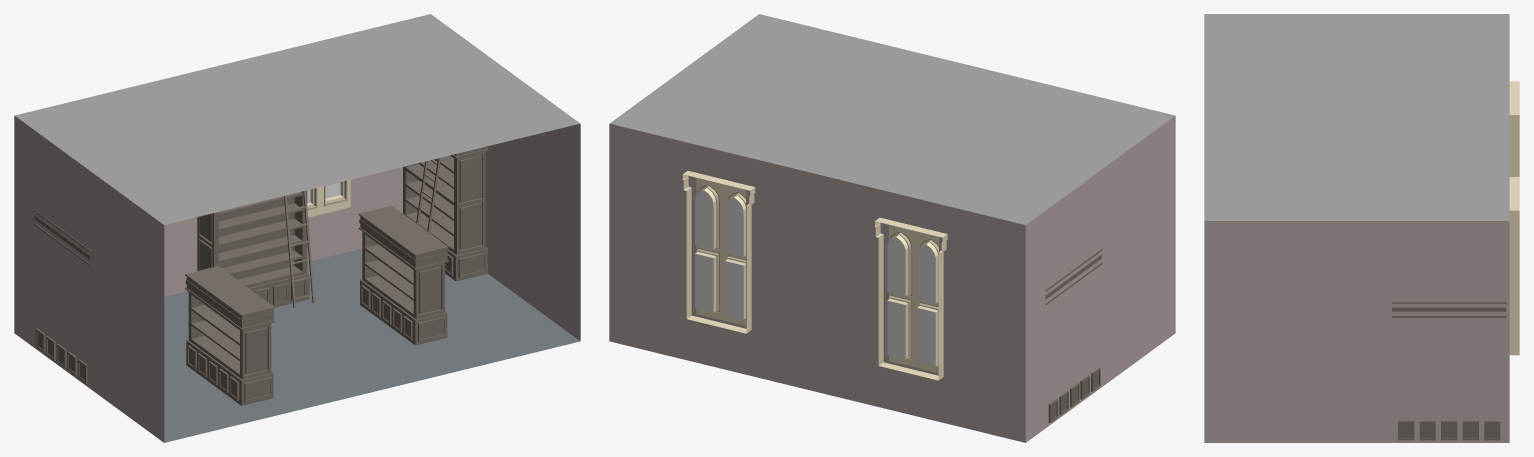
The model's file is LibraryFull 01.fbx.
3 renders of one model, left to right at view 1: azimuth 30°, elevation 25°; view 2: azimuth 150°, elevation 25°; view 3: azimuth 270°, elevation 25°, orthographic.
Visible parts, largest first — view 1: Buidling, BooksShelf6, BooksShelf3, Bookschelf2, Bookschelf1, Bookschelf3, Window6; view 2: Buidling, Window6, Window4, Bookschelf3; view 3: Buidling, Bookschelf1, Window6, Window4.
Part boxes in pixels (bbox=[...]): Buidling: bbox=[14, 14, 580, 442]; BooksShelf6: bbox=[185, 266, 274, 405]; BooksShelf3: bbox=[358, 205, 448, 345]; Bookschelf2: bbox=[197, 190, 309, 307]; Bookschelf1: bbox=[403, 146, 488, 281]; Bookschelf3: bbox=[33, 209, 90, 383]; Window6: bbox=[307, 179, 350, 217]; Buidling: bbox=[609, 14, 1175, 442]; Window6: bbox=[682, 171, 755, 333]; Window4: bbox=[875, 217, 947, 380]; Bookschelf3: bbox=[1045, 248, 1102, 422]; Buidling: bbox=[1204, 14, 1509, 442]; Bookschelf1: bbox=[1391, 302, 1506, 440]; Window6: bbox=[1509, 177, 1519, 355]; Window4: bbox=[1509, 81, 1519, 176].
Bounding box in the file's own units: 13.11 × 6.5 × 8.37.
